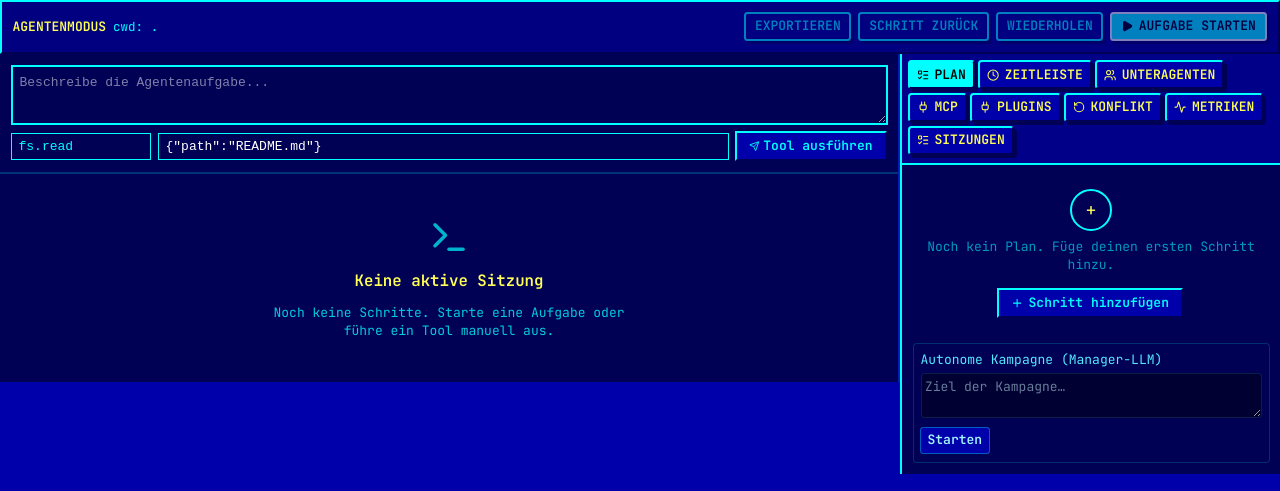
Test: AgentMode · sesiones interrumpidas › en alemán los textos del panel salen del diccionario
What coordinates should you click on to do the following:
click the button "SITZUNGEN"
I would click on:
 (961, 140)
Its box is [908, 126, 1014, 155].
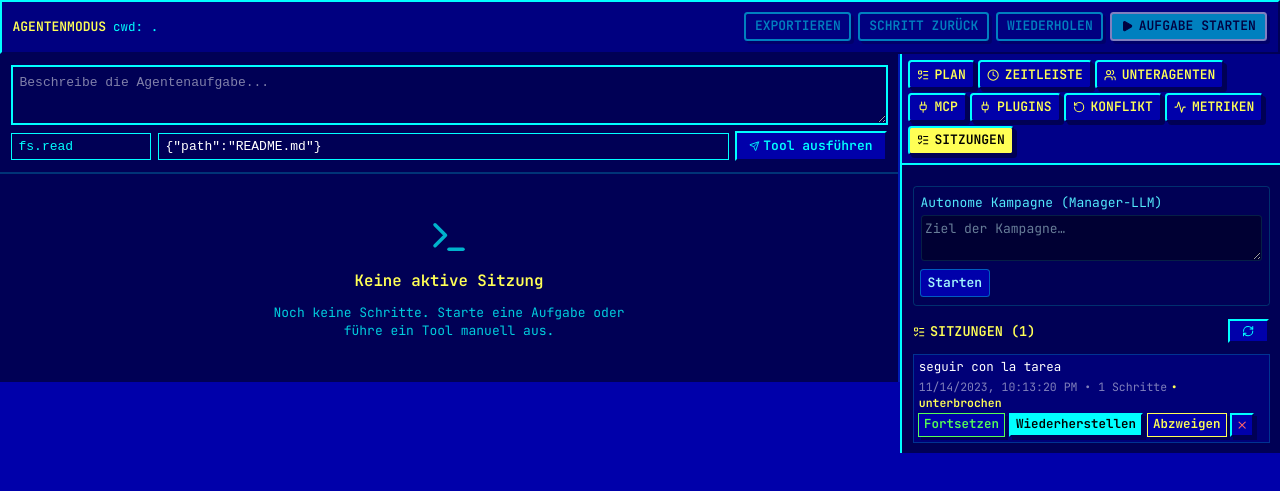
Check: the text "• unterbrochen" is shown, box [919, 379, 1178, 410]
Check: the button titled "Sitzungen aktualisieren" is shown, box [1228, 318, 1269, 343]
Check: the button titled "Sitzung löschen" is shown, box [1230, 413, 1254, 437]
What coordinates should you click on to do the following:
click the button "METRIKEN"
I would click on:
 (1214, 108)
Its box is [1165, 93, 1263, 122].
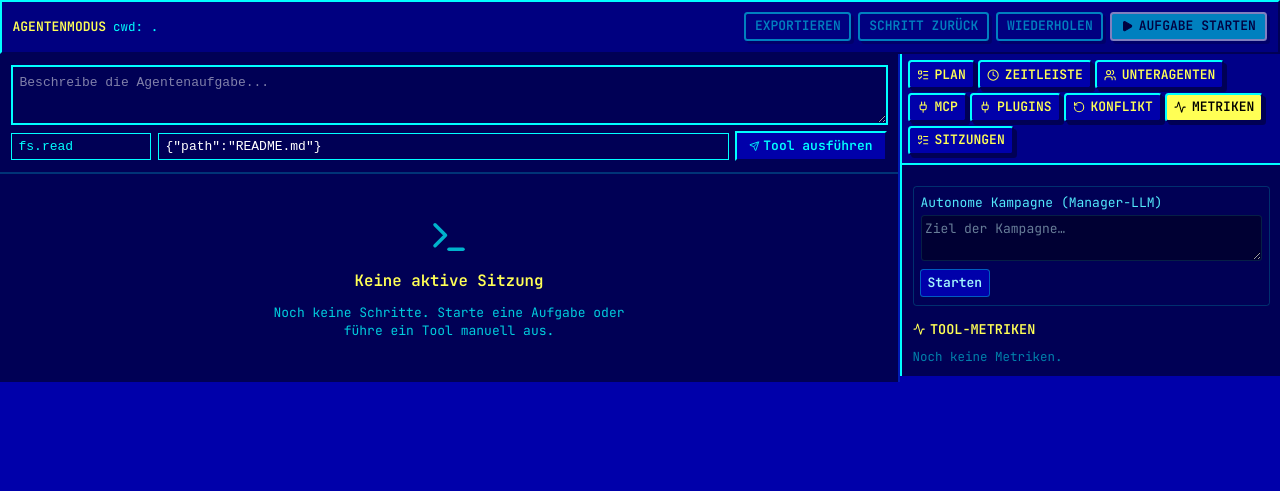
Check: the text "TOOL-METRIKEN" is shown, box [930, 320, 1035, 338]
What coordinates should you click on to do the following:
click the button "MCP"
I would click on:
 (937, 108)
Its box is [908, 93, 967, 122].
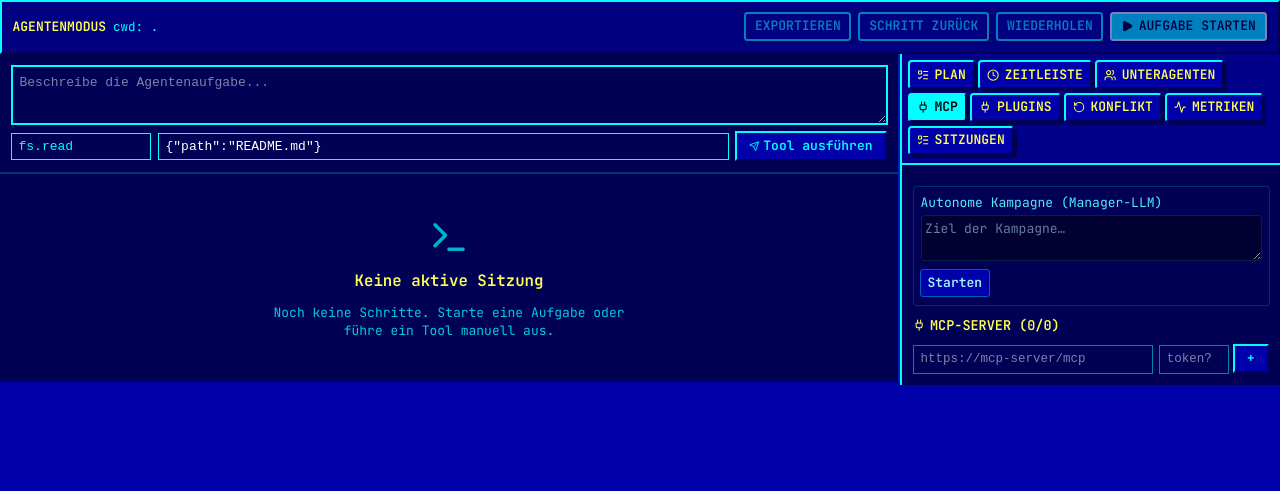
Check: the text "MCP-SERVER (0/0)" is shown, box [930, 316, 1060, 335]
